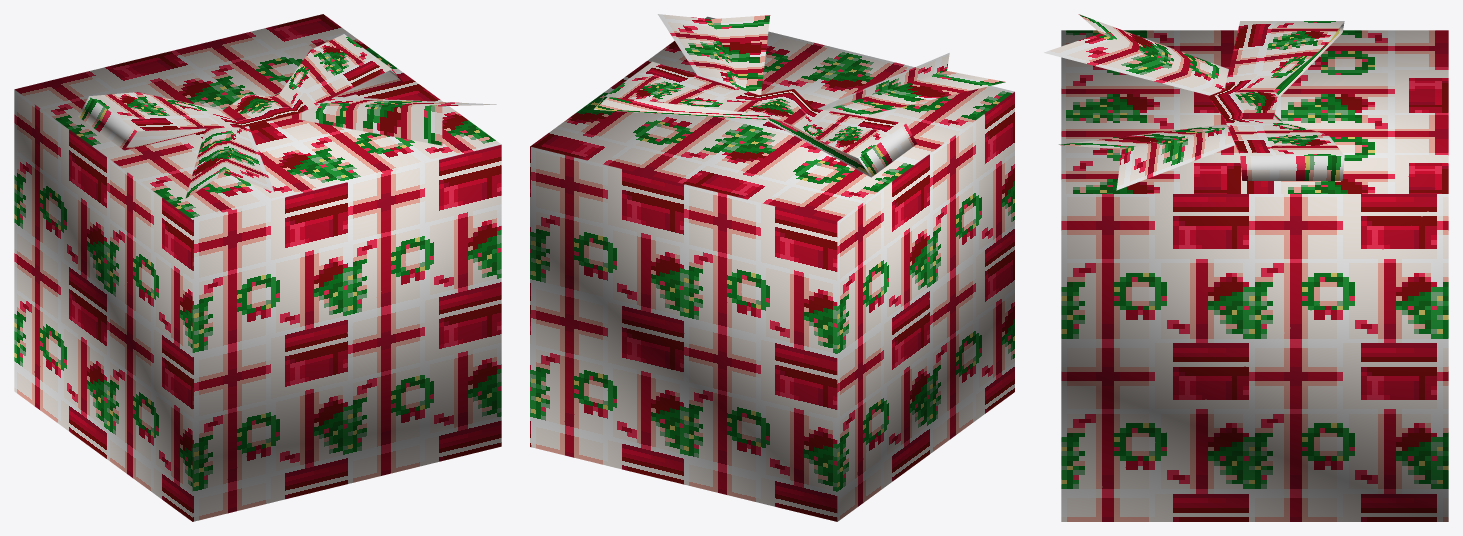
File: 3259IMIG02_06.gltf
The picture shows the model from 3 angles, left to right: view 1: azimuth 30°, elevation 25°; view 2: azimuth 150°, elevation 25°; view 3: azimuth 270°, elevation 25°; orthographic projection. The views are drawn at different scales.
Parts seen in each view (by area): view 1: 3259IMIG02_06; view 2: 3259IMIG02_06; view 3: 3259IMIG02_06.
Boxes of the visible parts, x1,y1,x2,y2 form: 3259IMIG02_06: [14, 14, 501, 521]; 3259IMIG02_06: [530, 14, 1014, 521]; 3259IMIG02_06: [1044, 14, 1448, 521].
Bounding box in the file's own units: 0.5107 × 0.4788 × 0.4946.
1 material, 1 textured.
